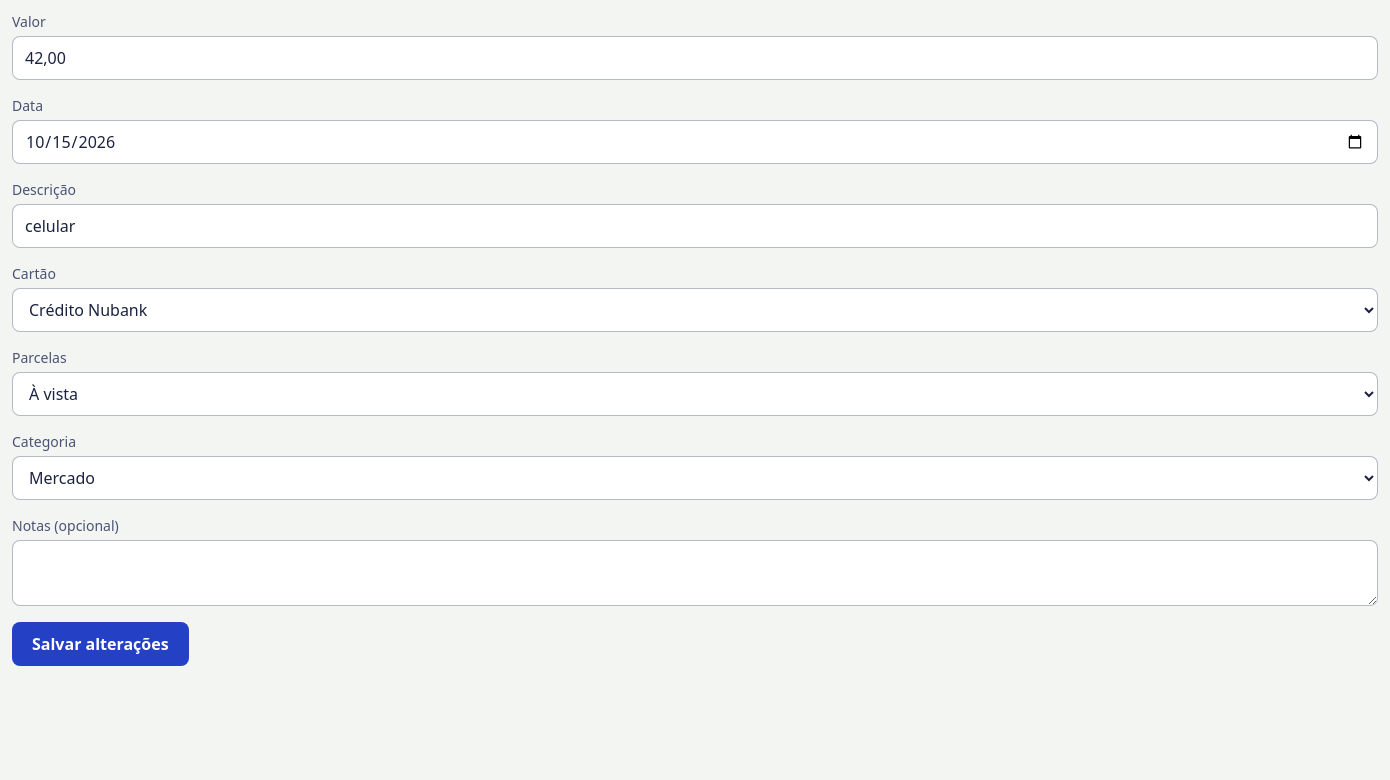
it: closed invoice block on edit shows the server message
Type "x" into the text box labelled "Notas (opcional)".
click(695, 573); type("x")  # box [12, 540, 1378, 606]
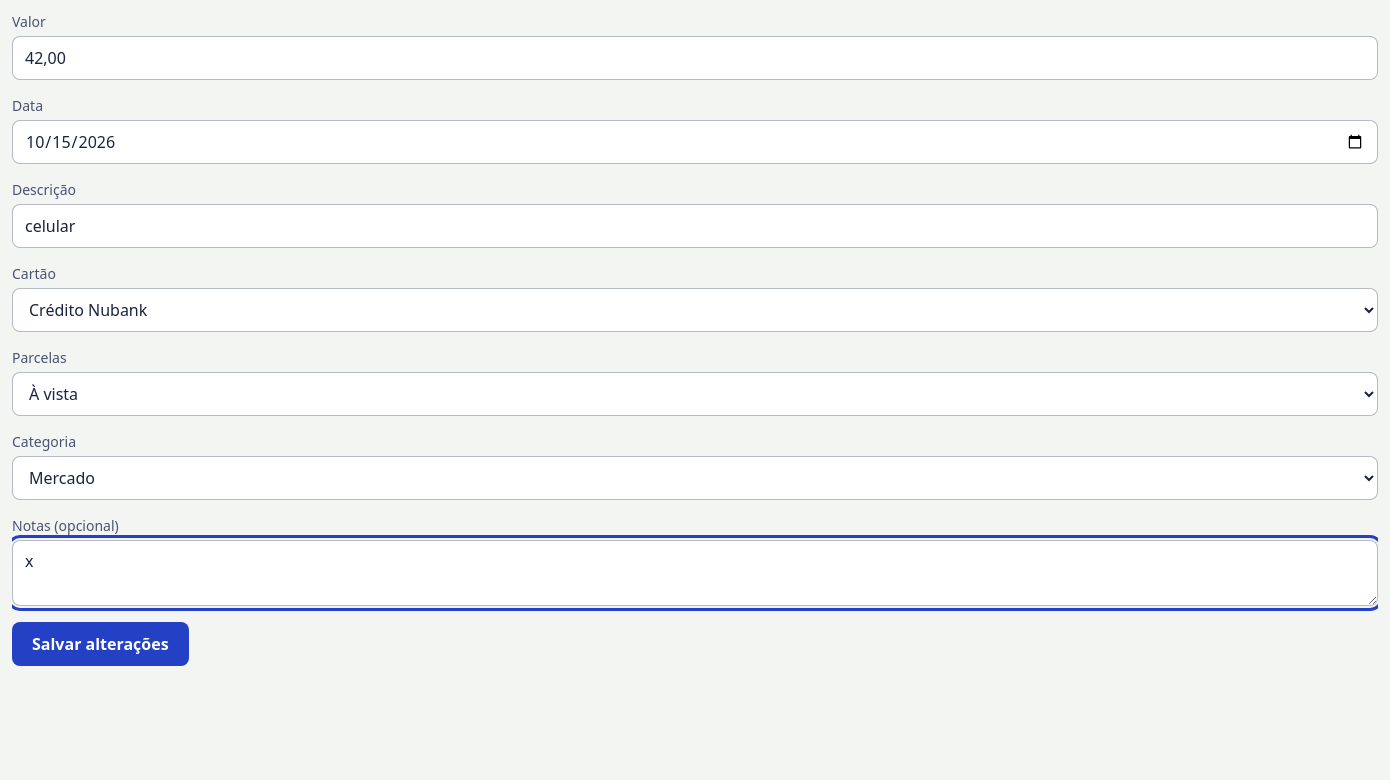
Click the button "Salvar alterações".
click(100, 644)  # box [12, 622, 189, 666]
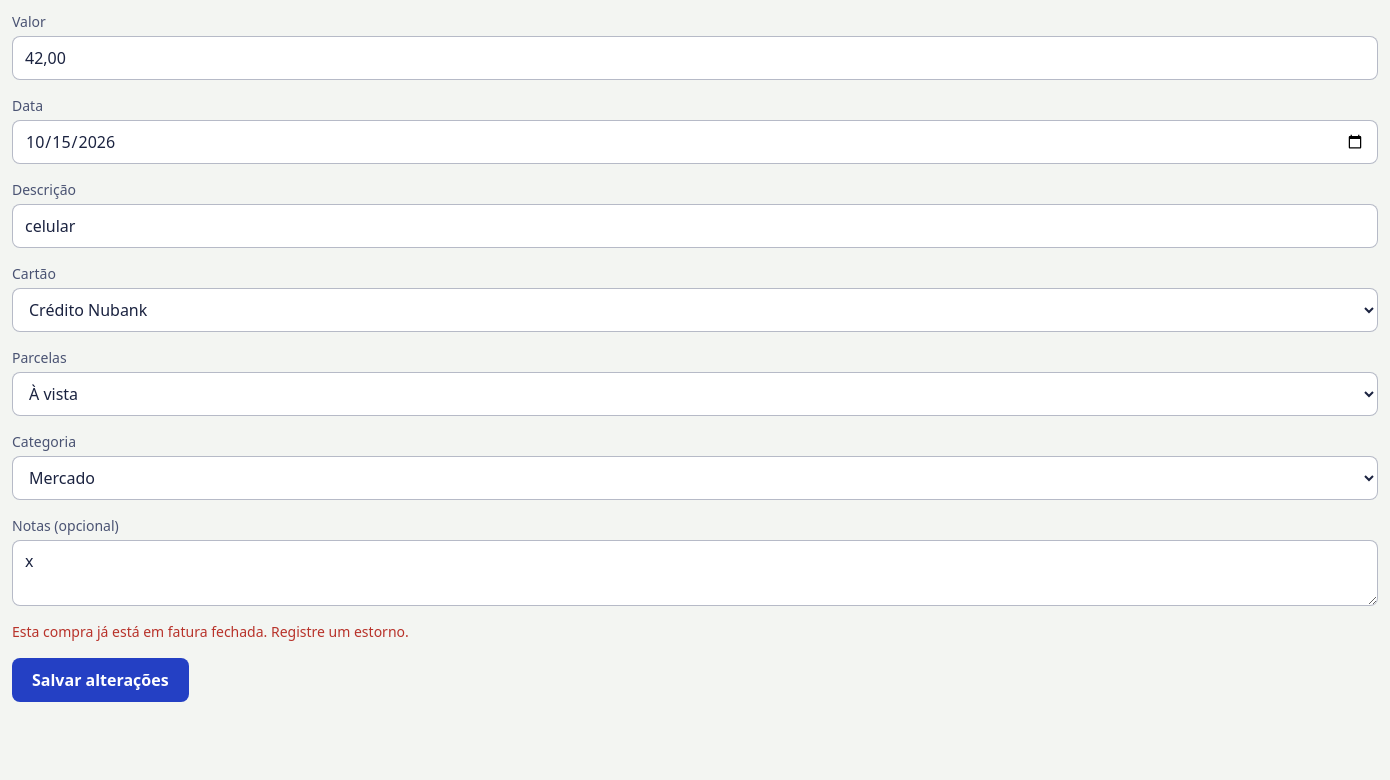
Expected: the message reads "Esta compra já está em fatura fechada. Registre um estorno.", [12, 622, 409, 641]
